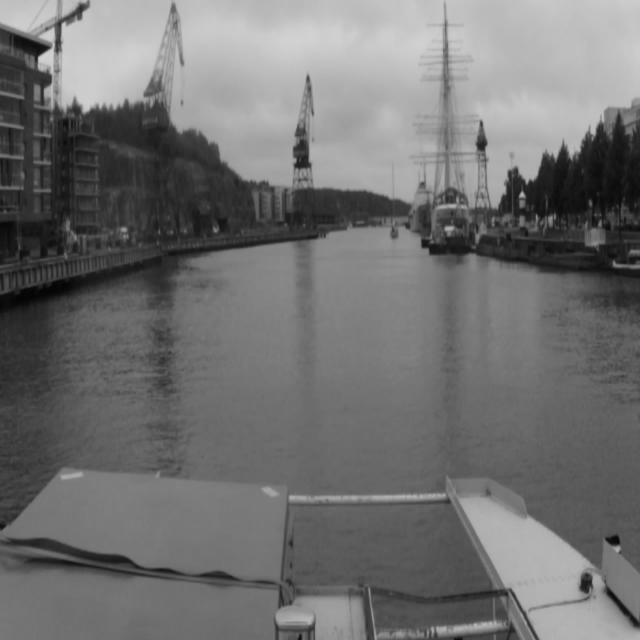ship: (418, 3, 474, 221), (409, 183, 435, 232), (390, 165, 398, 238), (430, 226, 446, 255)
